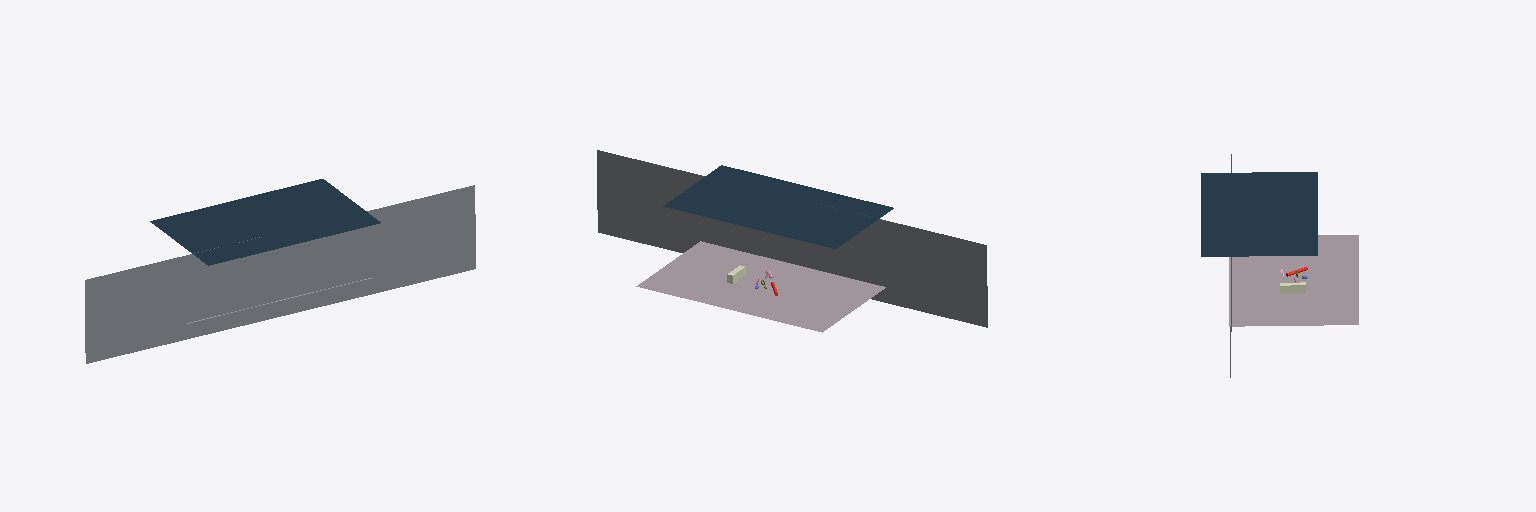
3 renders of one model, left to right at view 1: azimuth 30°, elevation 25°; view 2: azimuth 150°, elevation 25°; view 3: azimuth 270°, elevation 25°, orthographic.
Visible parts, largest first — view 1: back_栅格, sky_平面.002; view 2: back_栅格, plane_平面.001, sky_平面.002; view 3: sky_平面.002, plane_平面.001.
Boxes of the visible parts, x1=… form: back_栅格: x1=85, y1=185, x2=475, y2=363; sky_平面.002: x1=150, y1=179, x2=380, y2=265; back_栅格: x1=597, y1=150, x2=987, y2=327; plane_平面.001: x1=636, y1=241, x2=885, y2=332; sky_平面.002: x1=663, y1=165, x2=893, y2=248; sky_平面.002: x1=1201, y1=172, x2=1317, y2=256; plane_平面.001: x1=1229, y1=235, x2=1358, y2=326.
Size of the model in its own units: 1083 by 225 by 381.